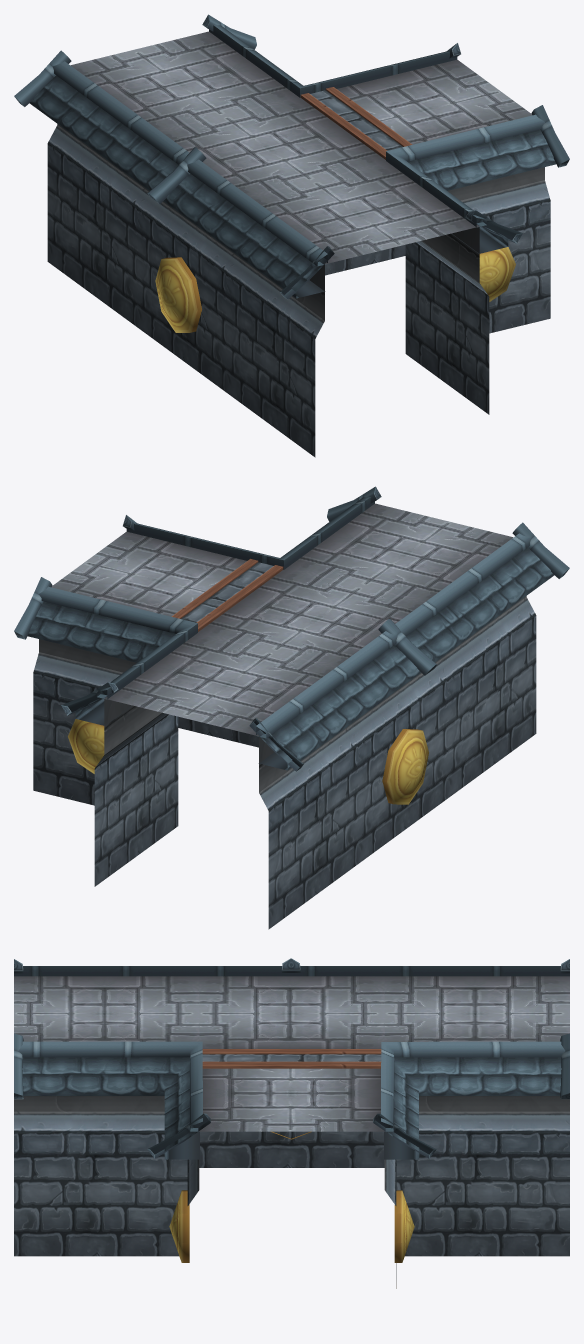
Rendered from castle_wall_junction.fbx.
3 views of the same model, one above another, from view 1: azimuth 30°, elevation 25°; view 2: azimuth 150°, elevation 25°; view 3: azimuth 270°, elevation 25° (orthographic). The views are drawn at different scales.
Visible parts, largest first — view 1: castle_wall_junction; view 2: castle_wall_junction; view 3: castle_wall_junction.
Boxes of the visible parts, x1=… form: castle_wall_junction: x1=14, y1=14, x2=569, y2=457; castle_wall_junction: x1=14, y1=486, x2=569, y2=929; castle_wall_junction: x1=14, y1=958, x2=569, y2=1288.
Bounding box in the file's own units: 7.54 × 4.27 × 9.91.
Materials: 1 (1 with a texture image).
